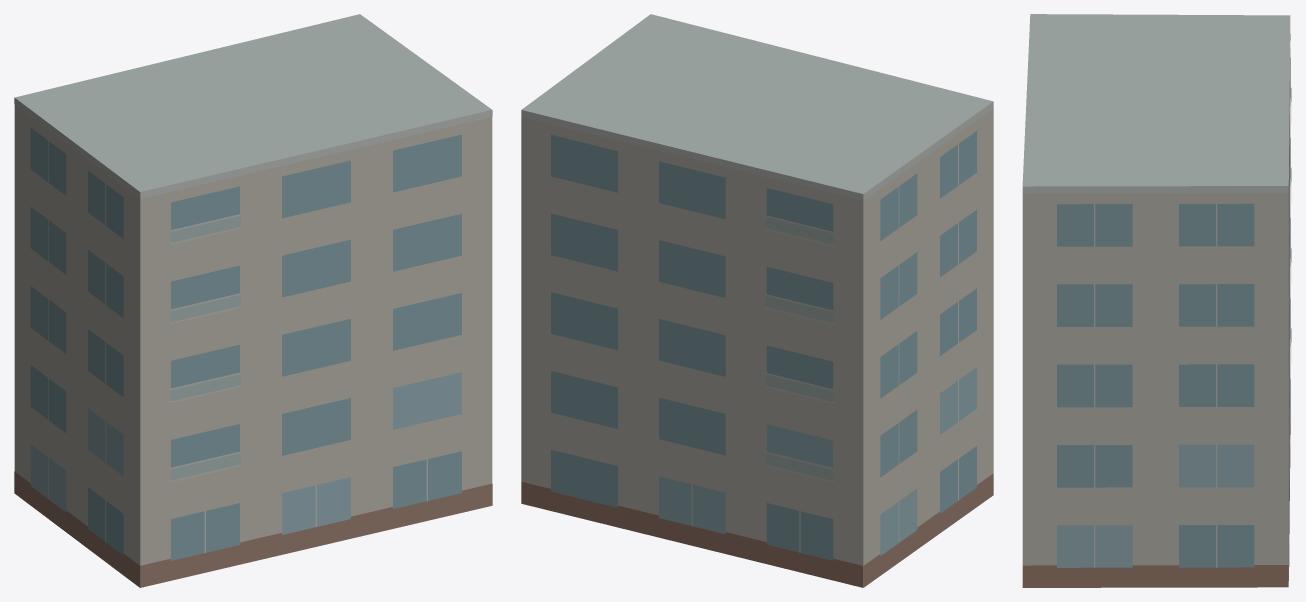
File: survey-upis-32974758.glb
The picture shows the model from 3 angles, left to right: view 1: azimuth 30°, elevation 25°; view 2: azimuth 150°, elevation 25°; view 3: azimuth 270°, elevation 25°; orthographic projection.
Parts seen in each view (by area): view 1: survey-upis-32974758.tmp; view 2: survey-upis-32974758.tmp; view 3: survey-upis-32974758.tmp.
Boxes of the visible parts, <box> form: survey-upis-32974758.tmp: <box>14,14,492,587</box>; survey-upis-32974758.tmp: <box>521,14,993,587</box>; survey-upis-32974758.tmp: <box>1022,14,1291,587</box>.
Size of the model in its own units: 12.82 by 13.9 by 8.45.
